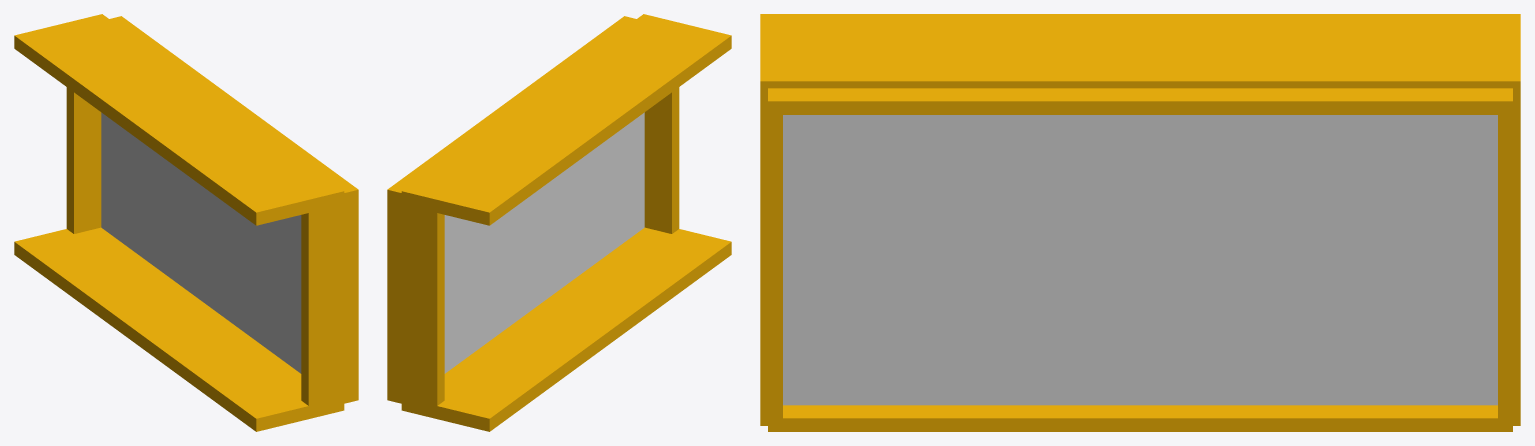
File: curtain_wall_4x1x2.dae
3 views of the same model, side by side, from view 1: azimuth 30°, elevation 25°; view 2: azimuth 150°, elevation 25°; view 3: azimuth 270°, elevation 25° (orthographic). The views are drawn at different scales.
Parts seen in each view (by area): view 1: Cube; view 2: Cube; view 3: Cube.
Boxes of the visible parts, x1,y1,x2,y2 form: Cube: (14,14,358,431); Cube: (387,14,731,431); Cube: (760,14,1520,431).
Size of the model in its own units: 0.25 by 1 by 0.5.
